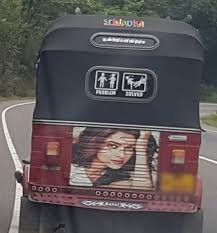tuk tuk: (23, 12, 206, 232)
